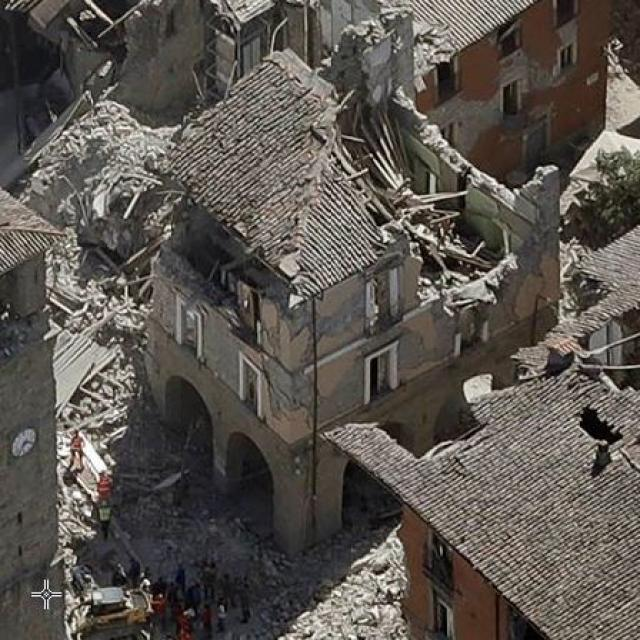collapsed_building: (176, 56, 543, 532), (16, 0, 286, 451)
